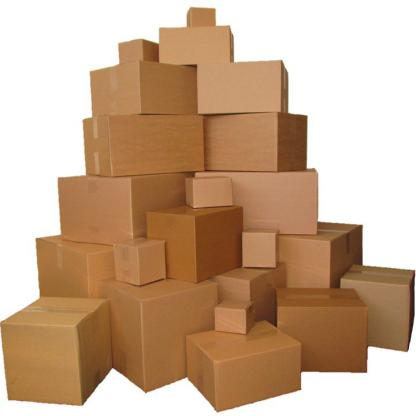box: (1, 296, 111, 406), (186, 320, 302, 412), (274, 285, 370, 375), (81, 113, 206, 174), (204, 112, 308, 171), (89, 59, 196, 114), (157, 24, 235, 64), (113, 236, 165, 286), (184, 176, 235, 206), (214, 298, 256, 334), (241, 228, 278, 268)
